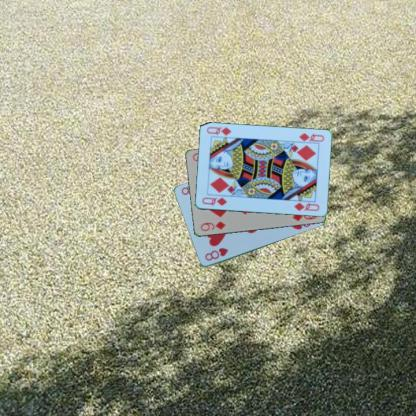8h: (203, 245, 230, 262)
9d: (198, 219, 226, 232)
Qd: (294, 131, 325, 145), (199, 195, 228, 207)
